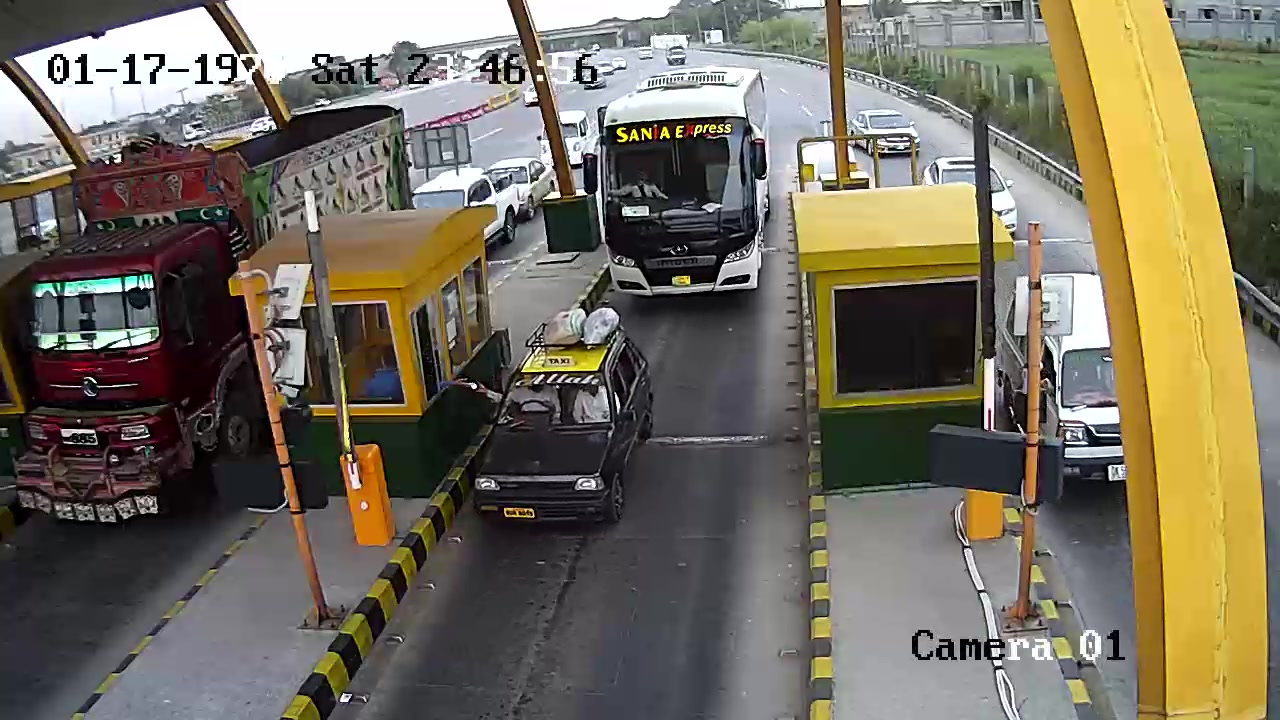F4: (600, 60, 764, 302)
